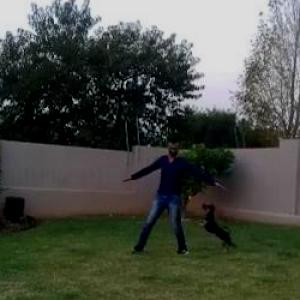land: (118, 138, 226, 266)
